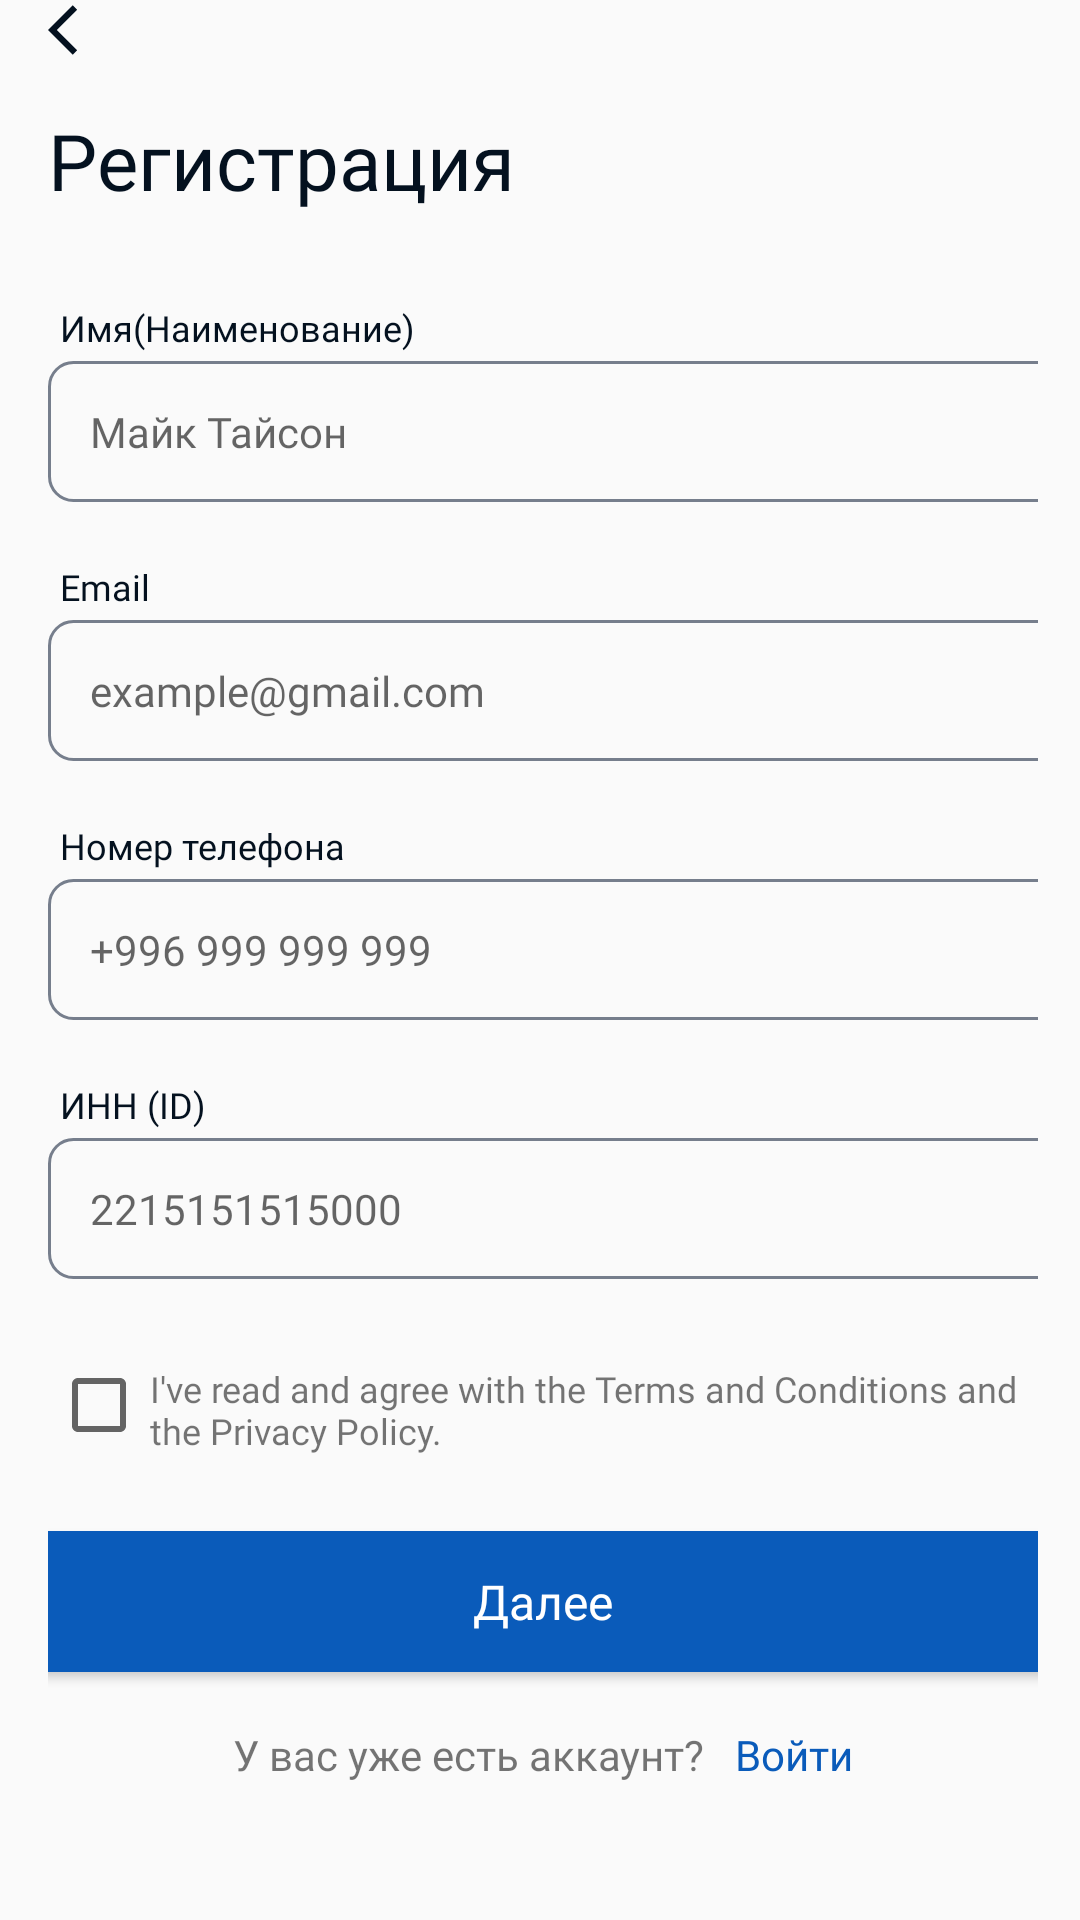

Icon bounding boxes for this 1080 × 1920 phone screenshot, format (left=x1, top=y1, right=x2, bottom=y2):
arrow back: (left=48, top=5, right=77, bottom=55)
